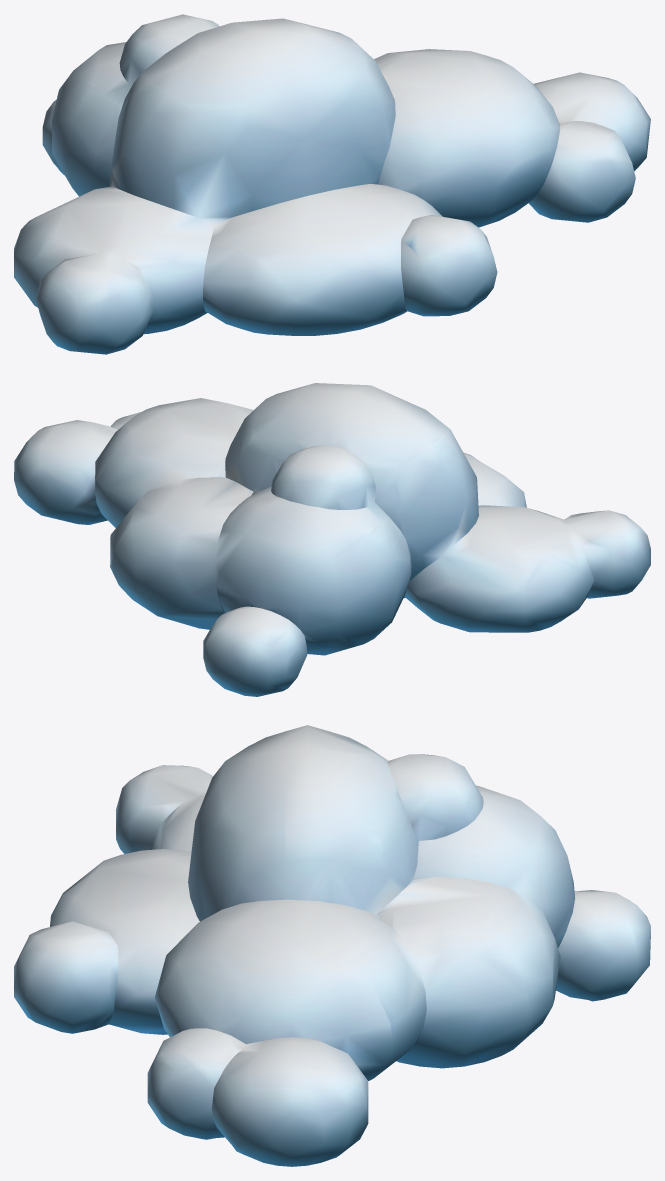
File: cloud_small.fbx
3 views of the same model, one above another, from view 1: azimuth 30°, elevation 25°; view 2: azimuth 150°, elevation 25°; view 3: azimuth 270°, elevation 25° (orthographic). The views are drawn at different scales.
Visible parts, largest first — view 1: cloud_small; view 2: cloud_small; view 3: cloud_small.
Part boxes in pixels (bbox=[...]): cloud_small: bbox=[14, 14, 650, 354]; cloud_small: bbox=[14, 383, 650, 696]; cloud_small: bbox=[14, 725, 650, 1166].
Bounding box in the file's own units: 8.65 × 3 × 6.79.
